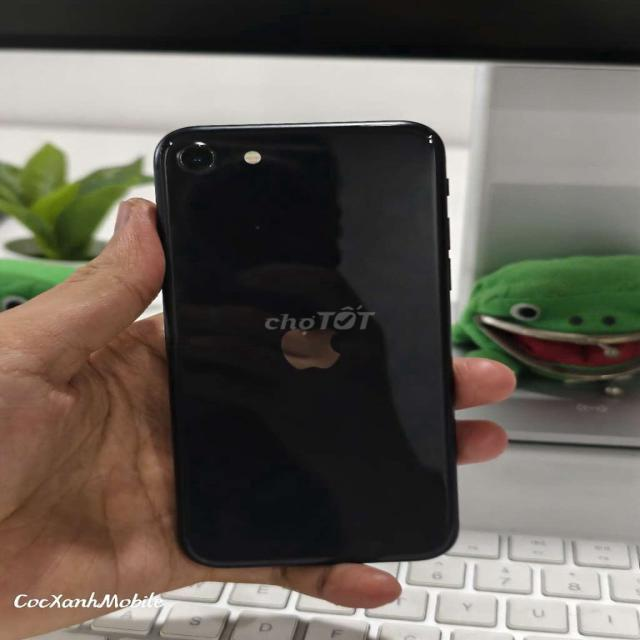gen_7_8: (137, 106, 484, 577), (179, 142, 216, 172), (416, 128, 442, 148), (151, 136, 176, 149)
